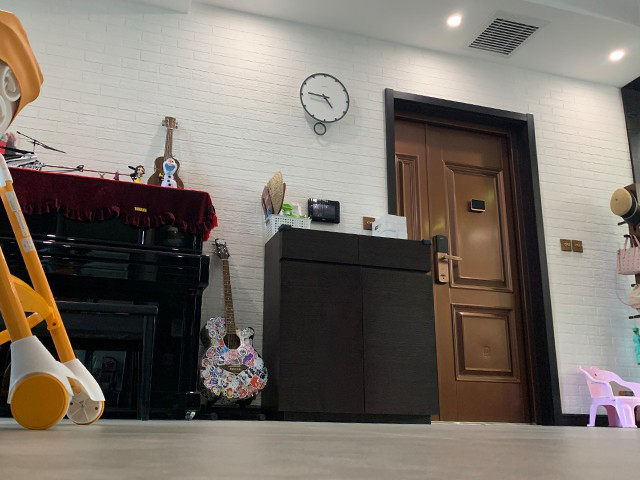cabinet: (261, 223, 441, 425)
stool: (53, 300, 159, 421), (578, 362, 640, 430)
